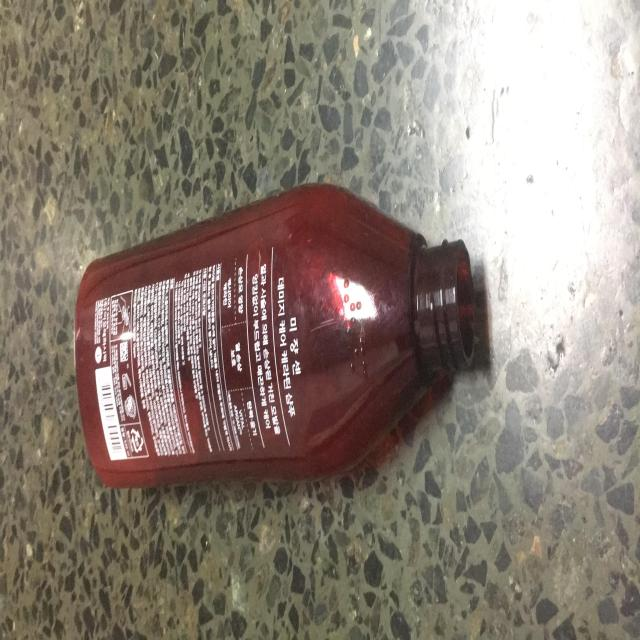bottle: (71, 173, 479, 489)
